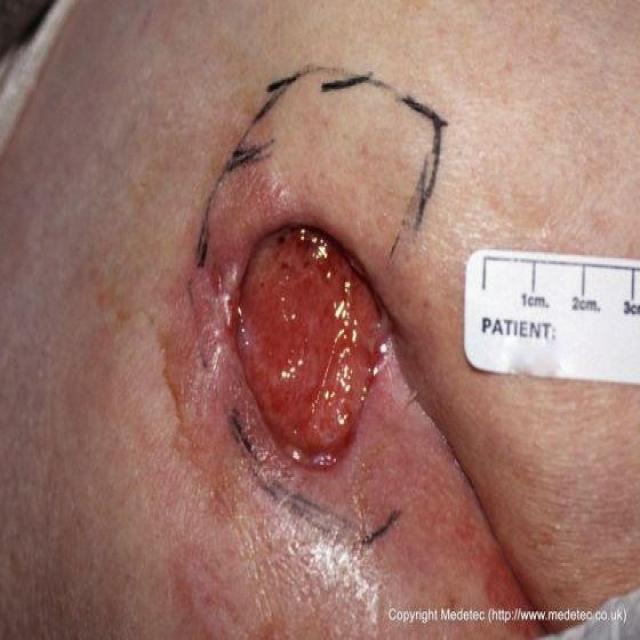stage-3: (239, 229, 385, 466)
